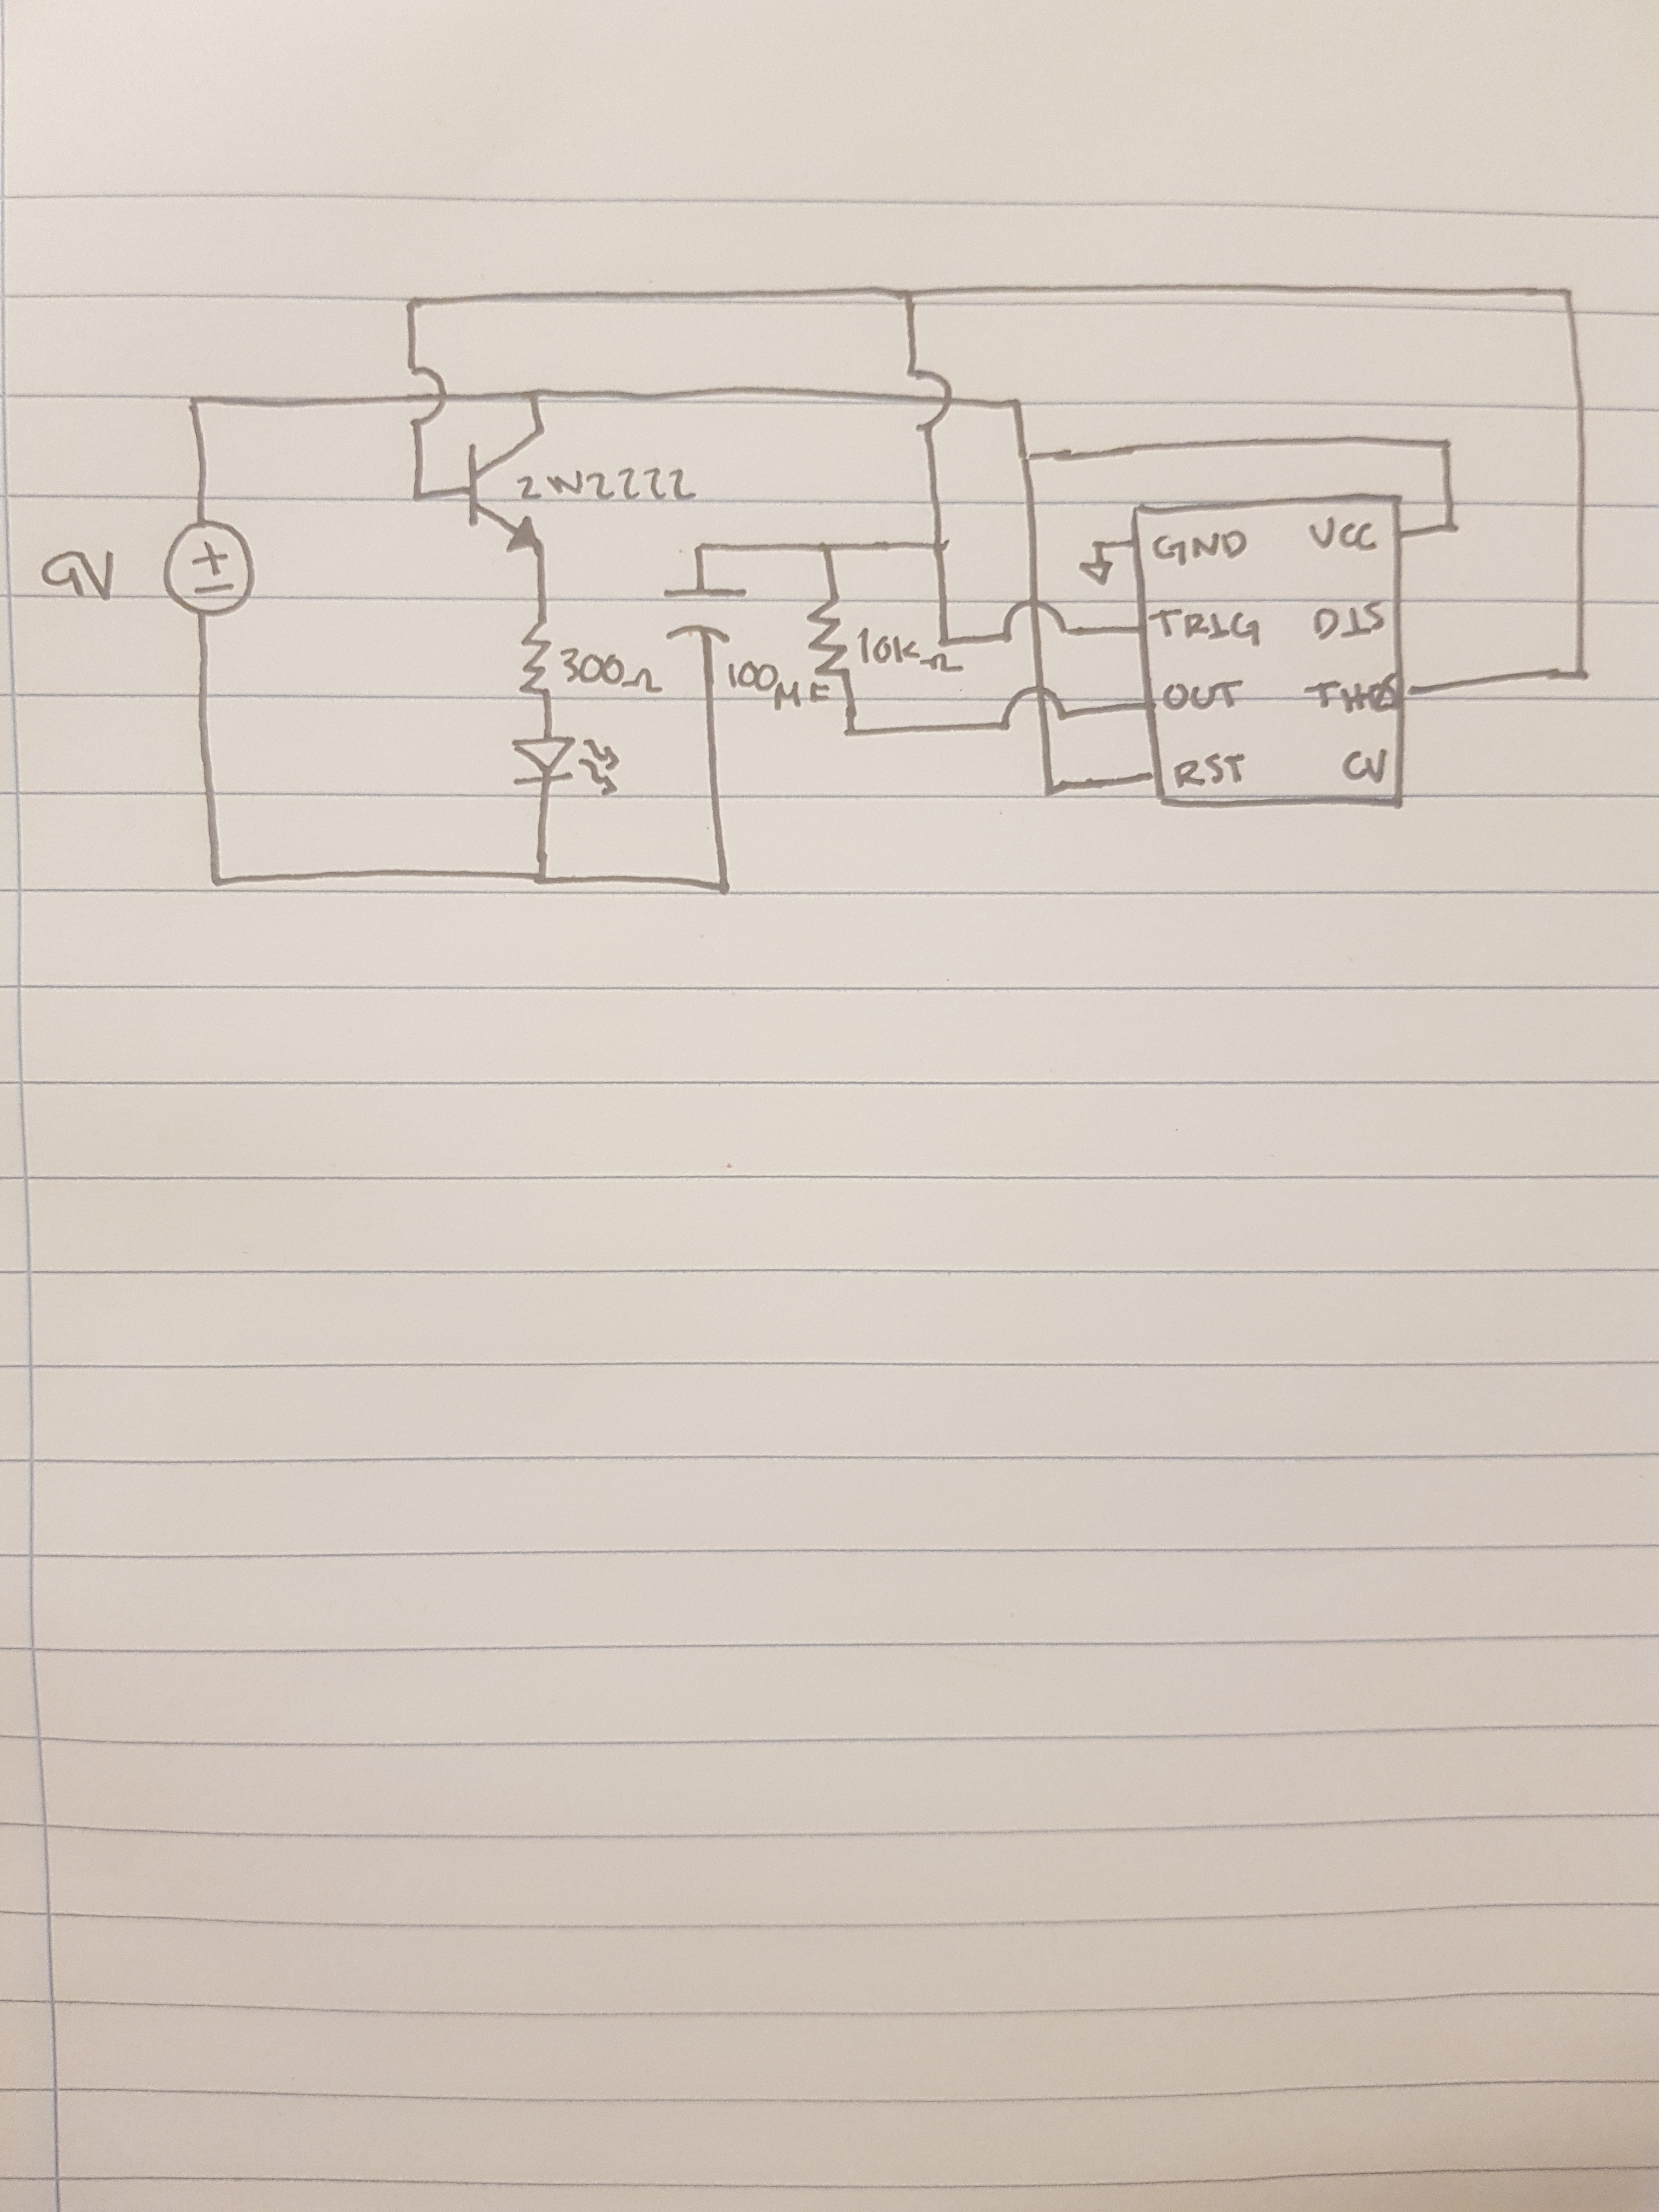capacitor.unpolarized: (659, 578, 755, 653)
crossover: (901, 361, 957, 437), (995, 683, 1073, 732), (403, 357, 450, 434), (999, 597, 1075, 644)
diode.light_emitting: (509, 730, 626, 803)
gnd: (1077, 556, 1115, 589)
integrated_cricuit.ne555: (1122, 488, 1420, 812)
junction: (708, 873, 734, 897), (1439, 514, 1464, 536), (840, 721, 864, 744), (927, 535, 951, 557), (1037, 779, 1058, 803), (1432, 432, 1455, 453), (931, 631, 957, 648), (1572, 665, 1593, 686), (530, 869, 551, 890), (816, 538, 835, 557), (1007, 394, 1025, 415), (899, 284, 918, 301), (403, 294, 422, 312), (183, 392, 202, 409), (1560, 280, 1575, 301), (1018, 449, 1033, 467), (1089, 538, 1108, 552), (411, 489, 427, 505), (209, 873, 225, 888), (694, 540, 708, 556), (528, 387, 540, 401)
resistor: (802, 587, 864, 697), (514, 611, 561, 707)
text: (514, 467, 702, 510), (31, 540, 131, 608), (723, 657, 830, 714), (556, 644, 666, 693), (1147, 604, 1265, 648), (1302, 671, 1399, 721), (1148, 528, 1251, 568), (1310, 597, 1385, 643), (856, 624, 922, 671), (1161, 678, 1246, 712), (1307, 514, 1380, 554), (1171, 751, 1248, 787), (1338, 742, 1389, 784)
transistor: (462, 425, 549, 559)
voltage.dc: (159, 519, 261, 624)
